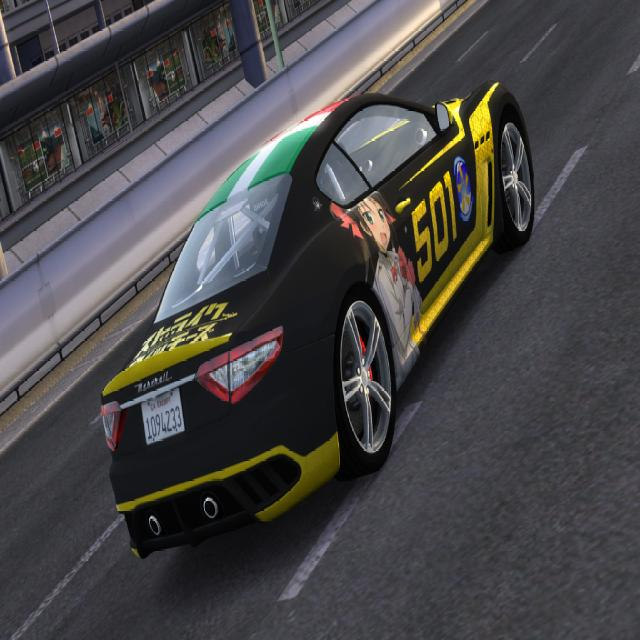car: (91, 71, 523, 522)
